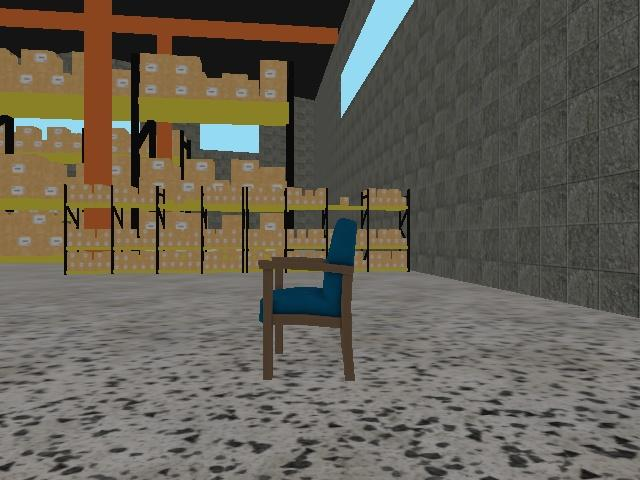chair: (256, 215, 361, 385)
